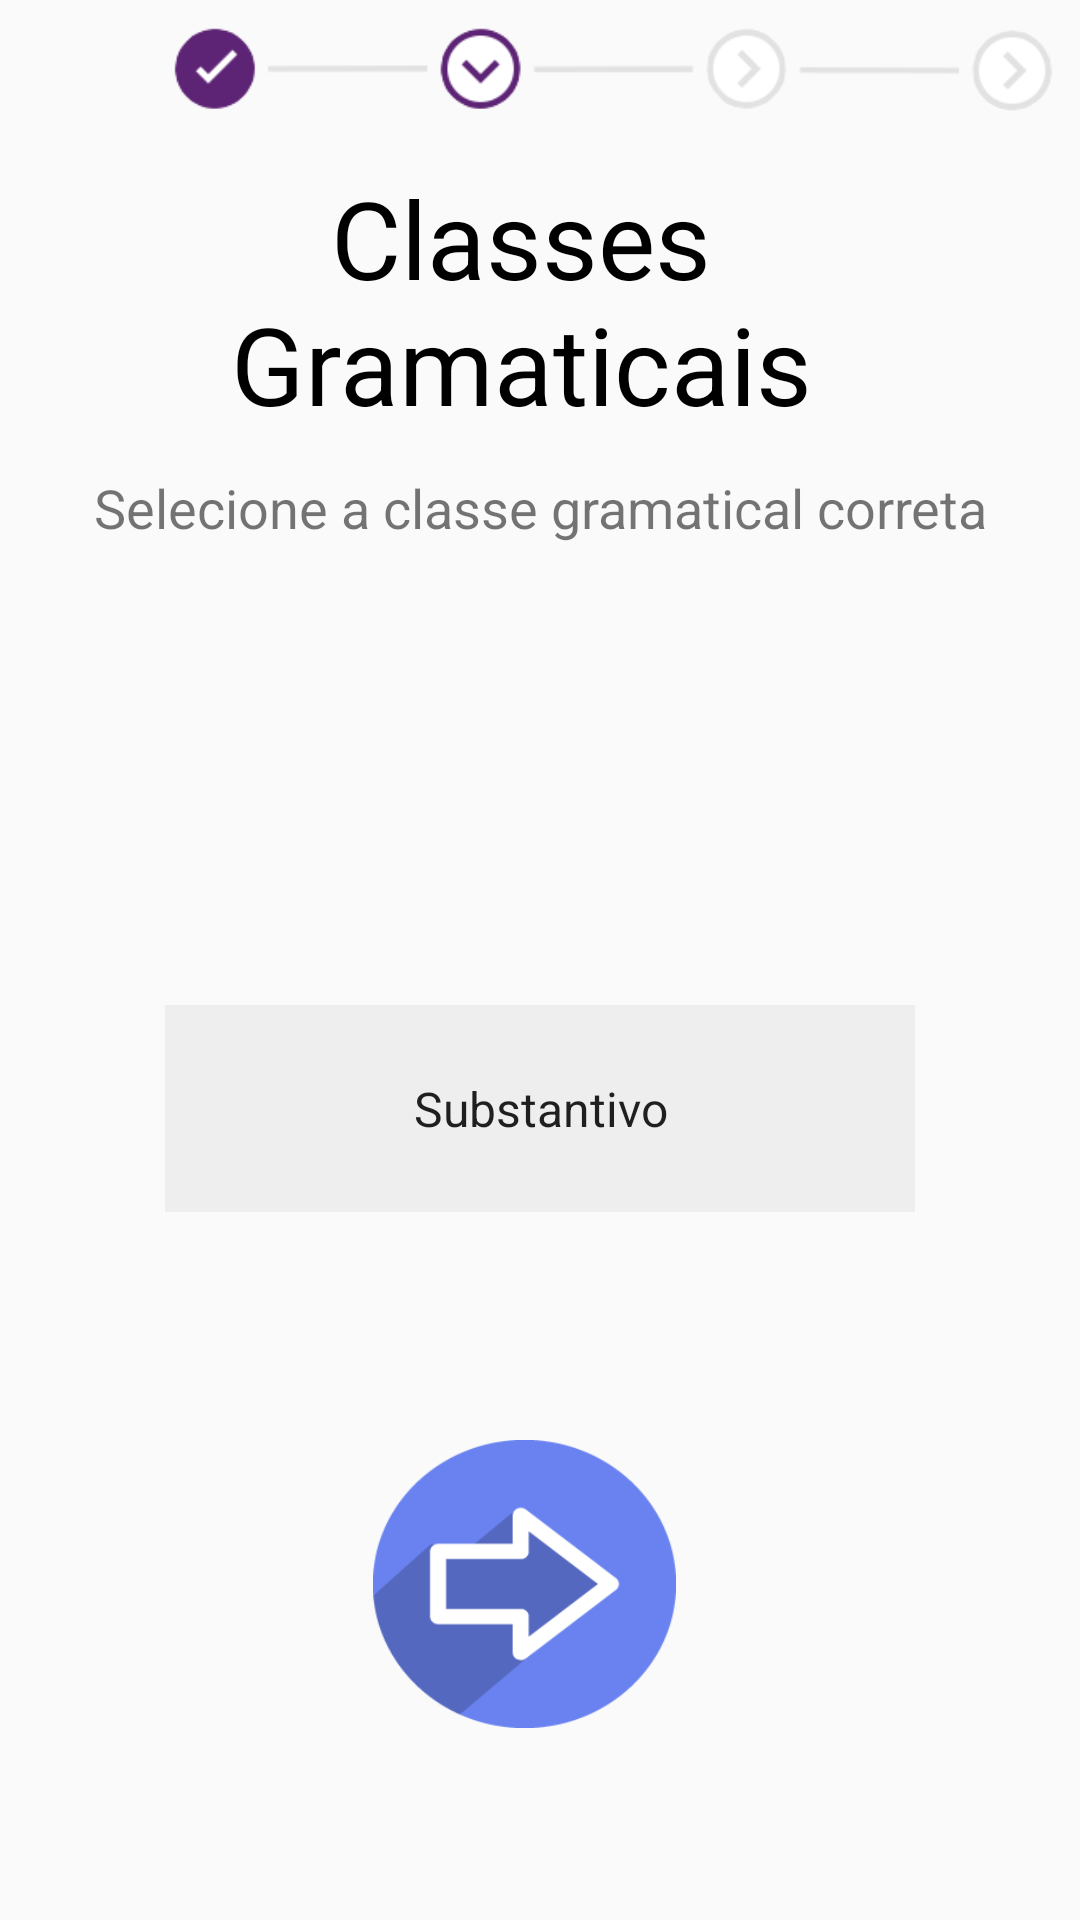

Icon click points for this 1080 x 1920 phone screenshot, format point (x, y):
arrow: point (524, 1584)
